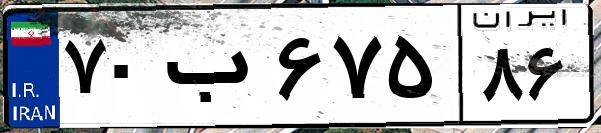0: (110, 28, 158, 98)
5: (385, 28, 445, 110)
6: (270, 28, 330, 110), (525, 38, 570, 115)
7: (330, 28, 385, 110), (57, 26, 110, 100)
8: (475, 38, 525, 113)
ب: (158, 20, 270, 120)
